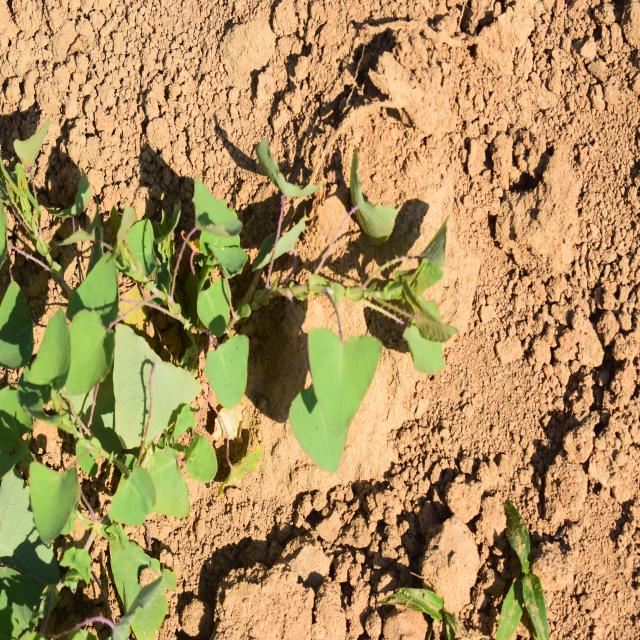Asiatic_Smartweed: (28, 293, 251, 512), (299, 162, 469, 445)
